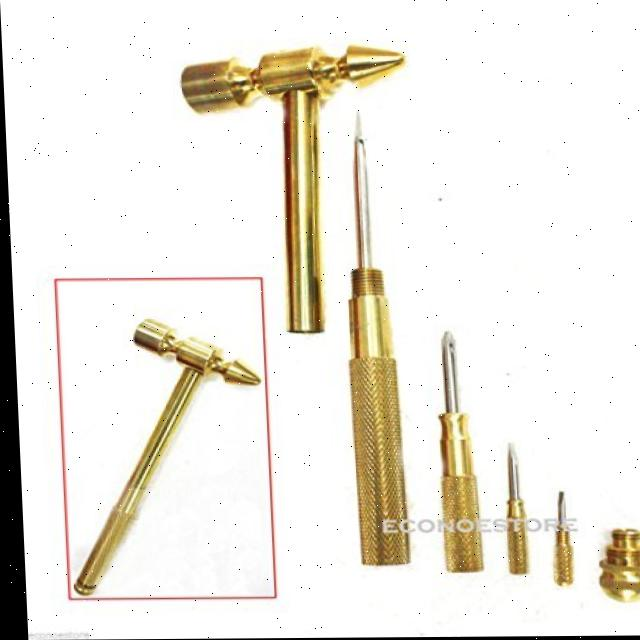Screwdriver: (346, 114, 404, 566), (435, 332, 478, 573), (505, 445, 522, 574), (549, 492, 568, 586)
